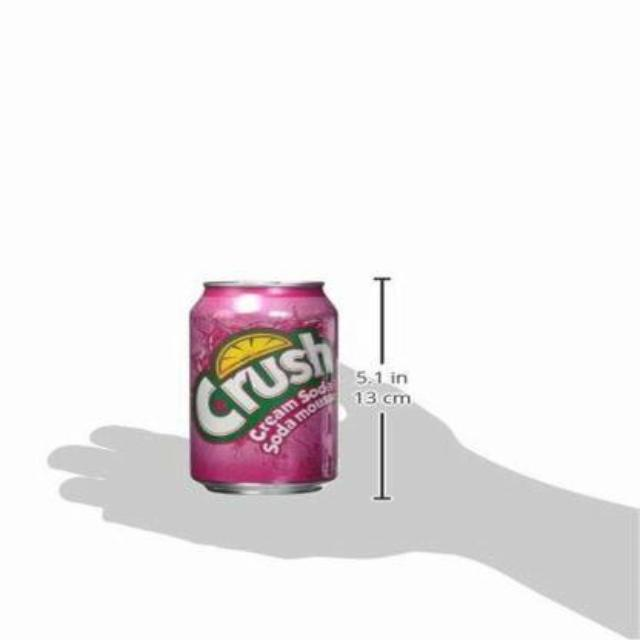metal: (189, 282, 334, 489)
